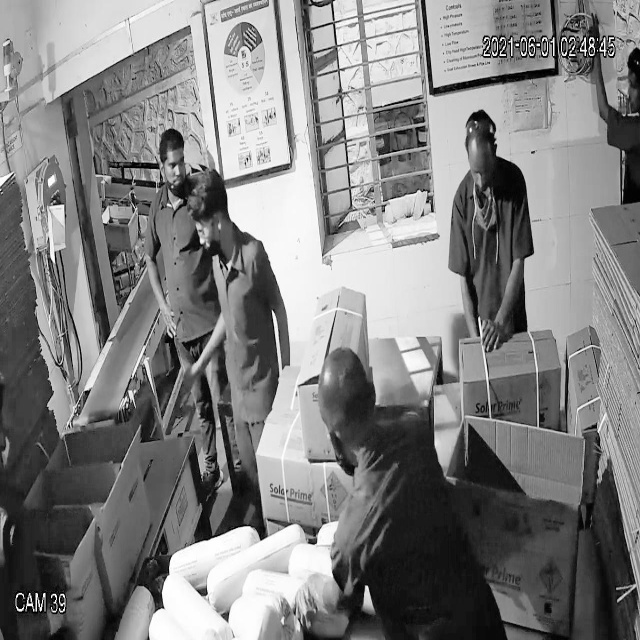Gafas: (184, 212, 230, 244)
Sin_gafas: (155, 154, 196, 180), (464, 156, 498, 182)
